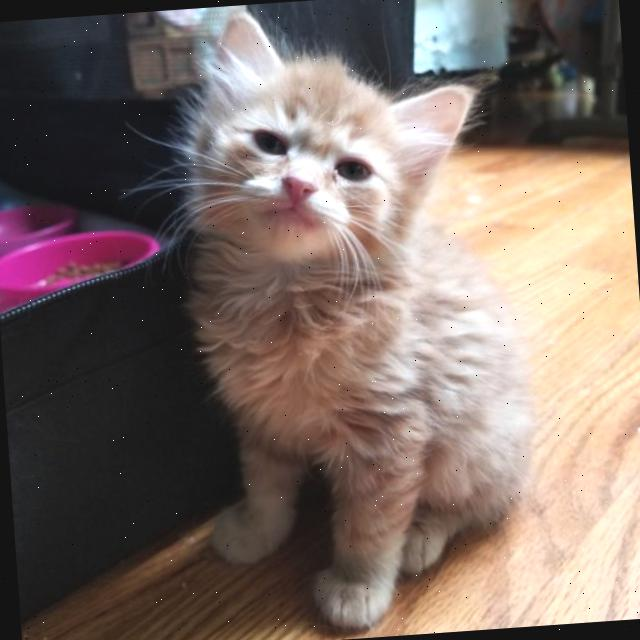domestic_long_hair_cat: (150, 0, 498, 321)
